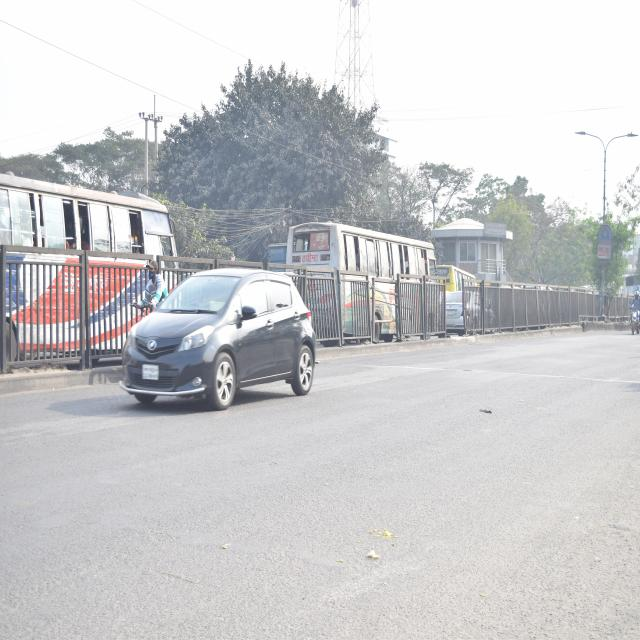car: (110, 256, 321, 414)
